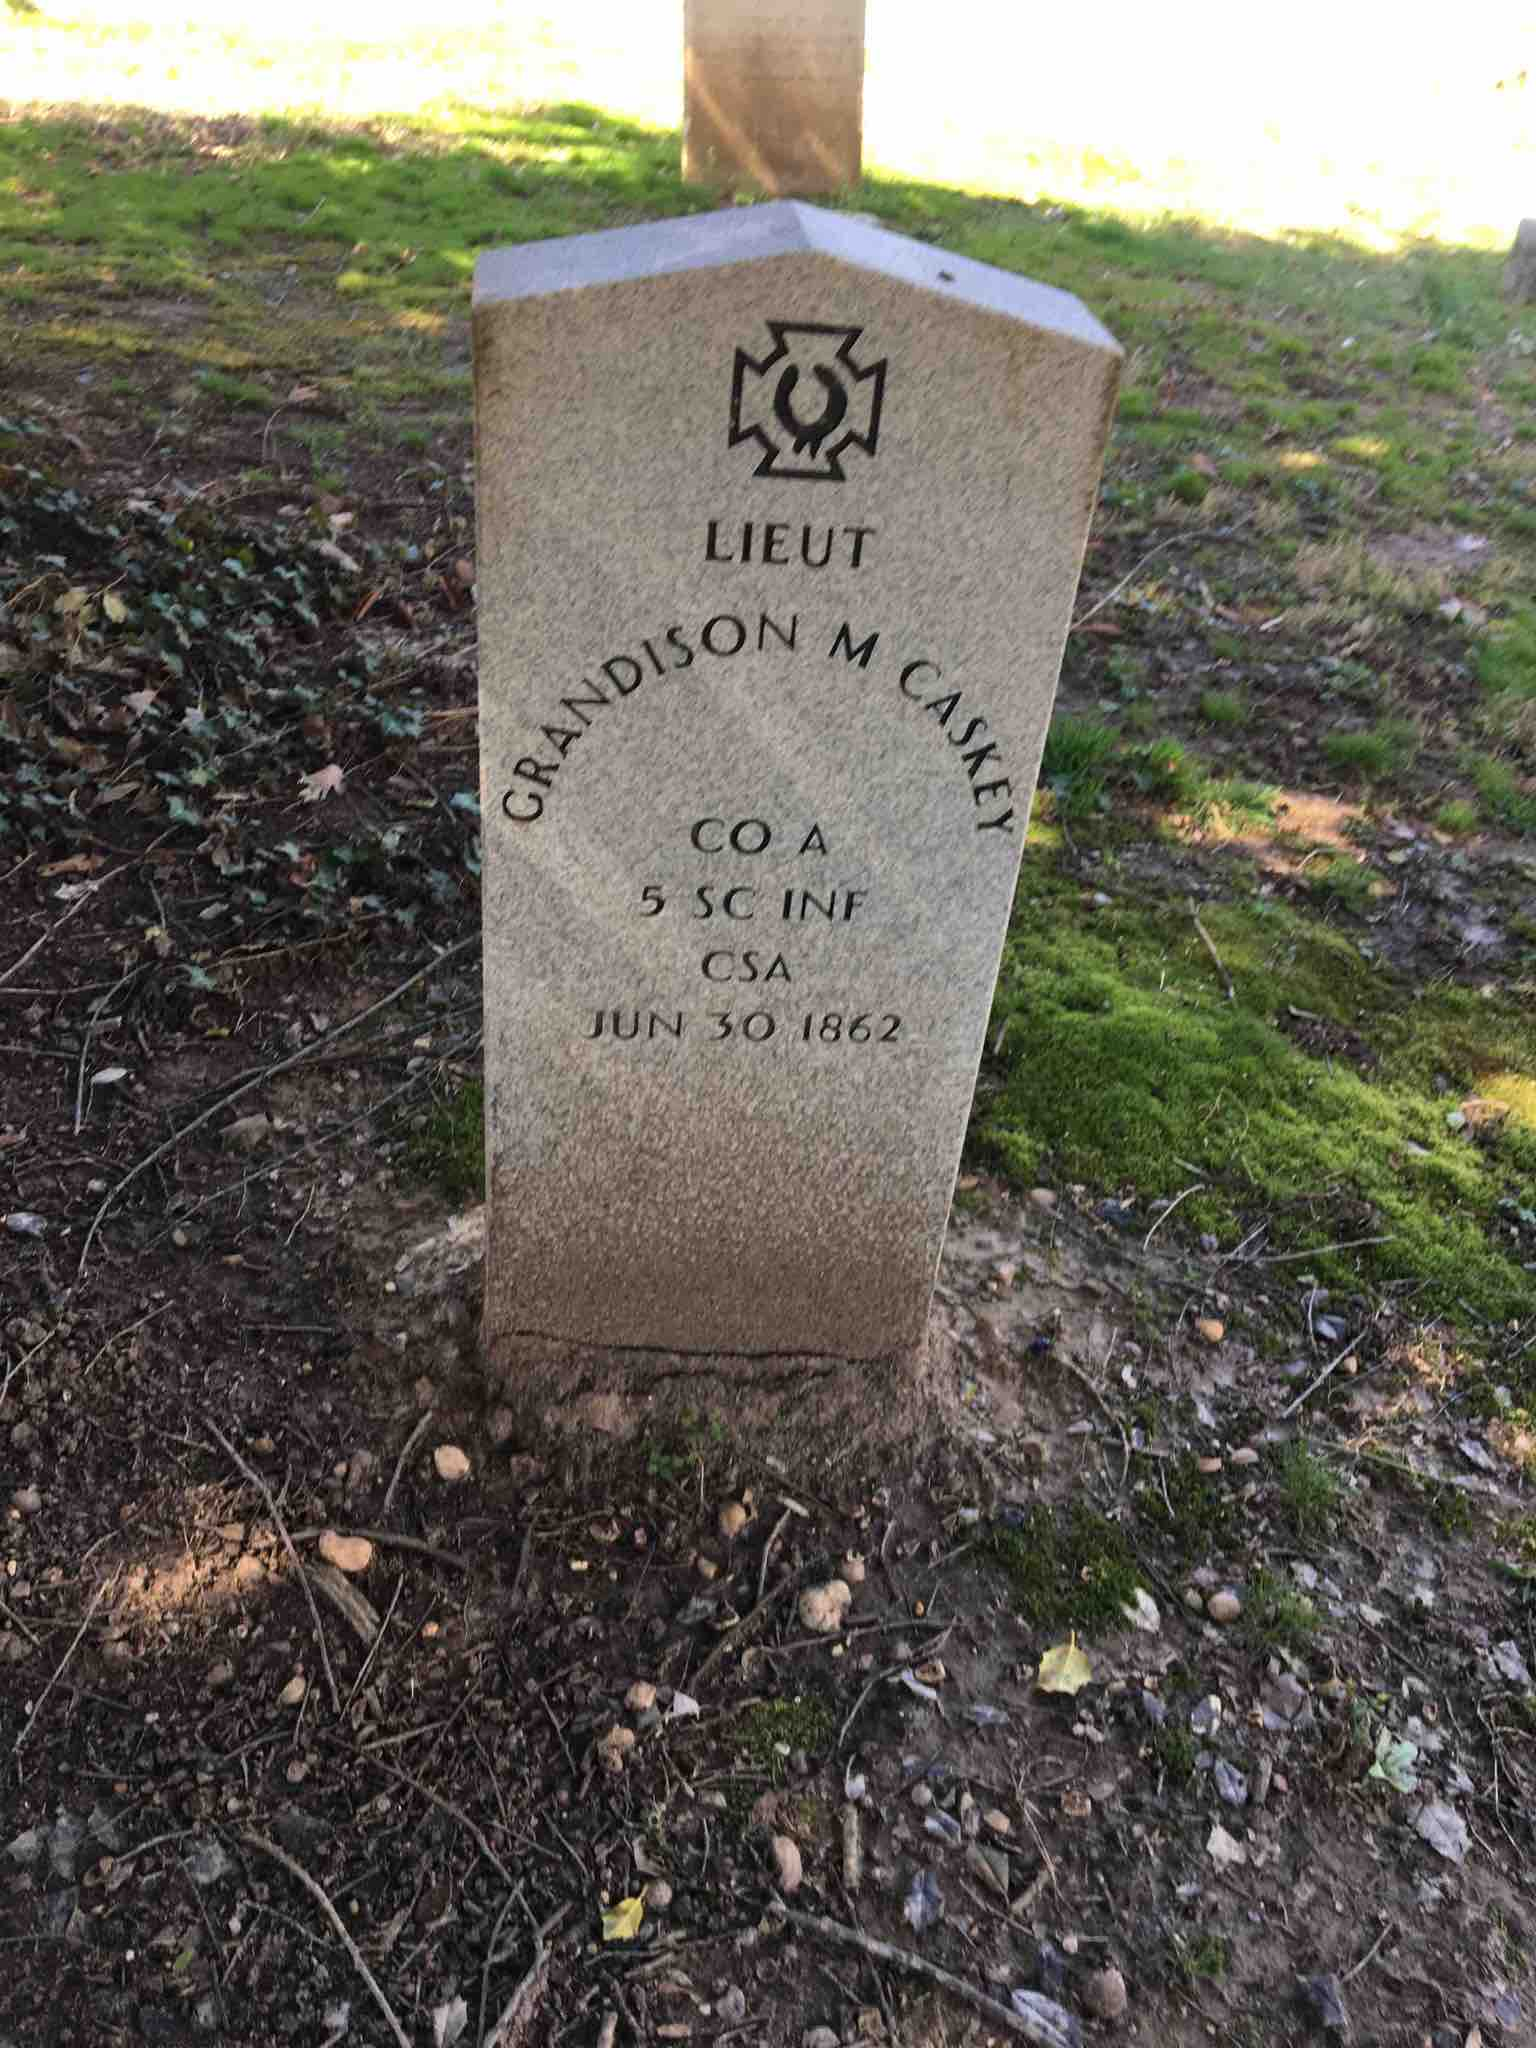military: (458, 211, 1113, 1342)
